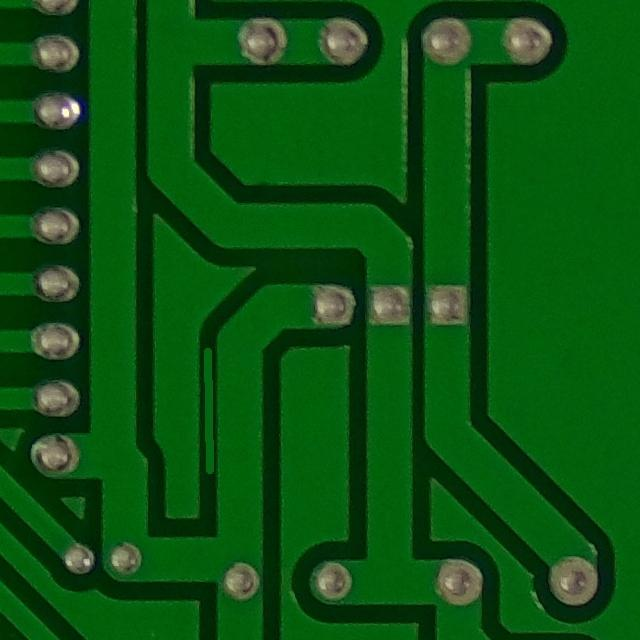spurious_copper: (183, 338, 233, 489)
